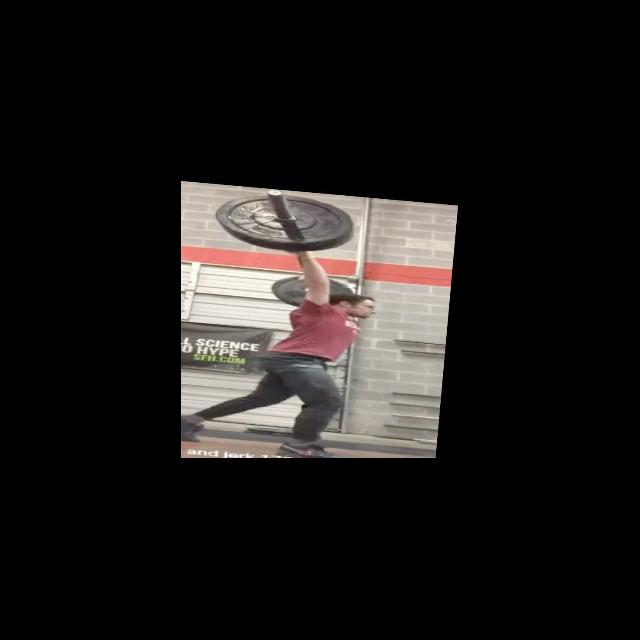barbell: (213, 184, 356, 249)
